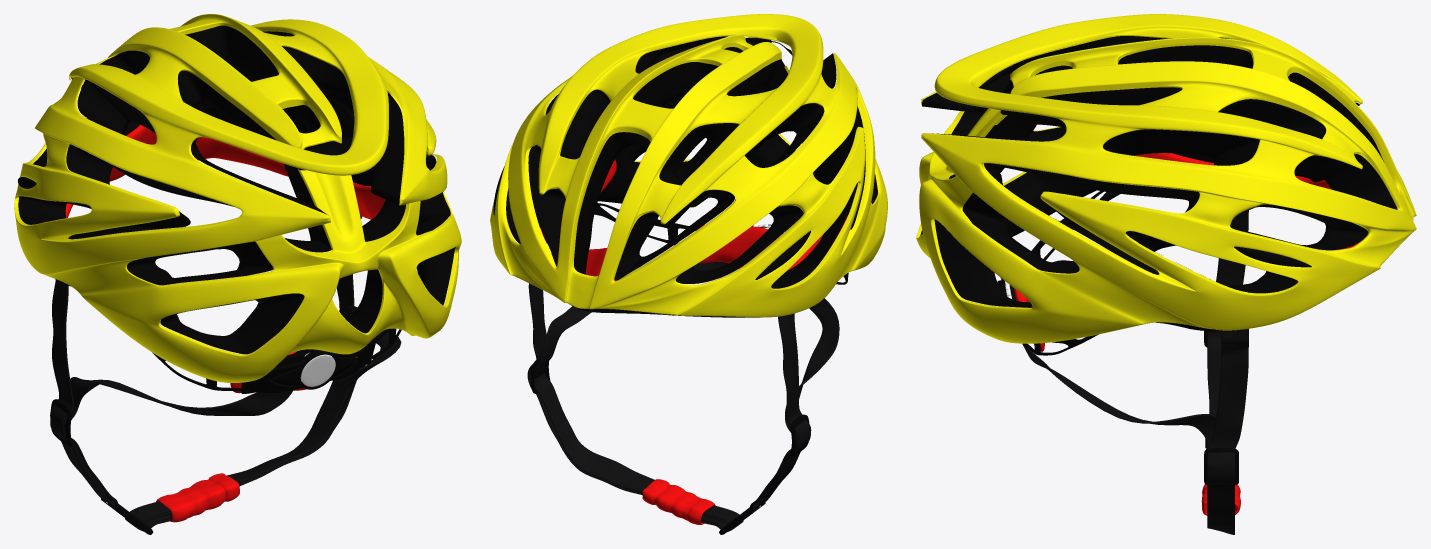
File: bicycle-helmet.glb
The picture shows the model from 3 angles, left to right: view 1: azimuth 30°, elevation 25°; view 2: azimuth 150°, elevation 25°; view 3: azimuth 270°, elevation 25°; orthographic projection. The views are drawn at different scales.
Visible parts, largest first — view 1: Helmet_Scorlupa_0, Helmet_interior_0, Helmet_Material_#305180_0, Helmet_Material_#305179_0, Helmet_Material_#305177_0_4, Helmet_Material_#305177_0_2, Helmet__0, Helmet_Material_#305177_0_1; view 2: Helmet_Scorlupa_0, Helmet_interior_0, Helmet_Material_#305180_0, Helmet_Material_#305177_0_4, Helmet_Material_#305177_0_3, Helmet_Material_#305178_0_1, Helmet_Material_#305178_0_3; view 3: Helmet_Scorlupa_0, Helmet_interior_0, Helmet_Material_#305180_0, Helmet_Material_#305178_0_1.
Part boxes in pixels (x1,y1,x2,y2): Helmet_Scorlupa_0: [14, 14, 461, 382]; Helmet_interior_0: [18, 25, 455, 354]; Helmet_Material_#305180_0: [50, 215, 401, 531]; Helmet_Material_#305179_0: [241, 337, 376, 393]; Helmet_Material_#305177_0_4: [156, 473, 239, 522]; Helmet_Material_#305177_0_2: [65, 124, 288, 218]; Helmet__0: [300, 353, 335, 386]; Helmet_Material_#305177_0_1: [353, 182, 385, 219]; Helmet_Scorlupa_0: [490, 14, 887, 317]; Helmet_interior_0: [506, 36, 877, 317]; Helmet_Material_#305180_0: [527, 207, 839, 531]; Helmet_Material_#305177_0_4: [642, 479, 715, 524]; Helmet_Material_#305177_0_3: [696, 224, 779, 268]; Helmet_Material_#305178_0_1: [493, 166, 810, 279]; Helmet_Material_#305178_0_3: [594, 203, 696, 245]; Helmet_Scorlupa_0: [916, 14, 1416, 343]; Helmet_interior_0: [920, 36, 1397, 331]; Helmet_Material_#305180_0: [1000, 210, 1248, 534]; Helmet_Material_#305178_0_1: [1234, 246, 1311, 267].
Size of the model in its own units: 547 by 691 by 657.
